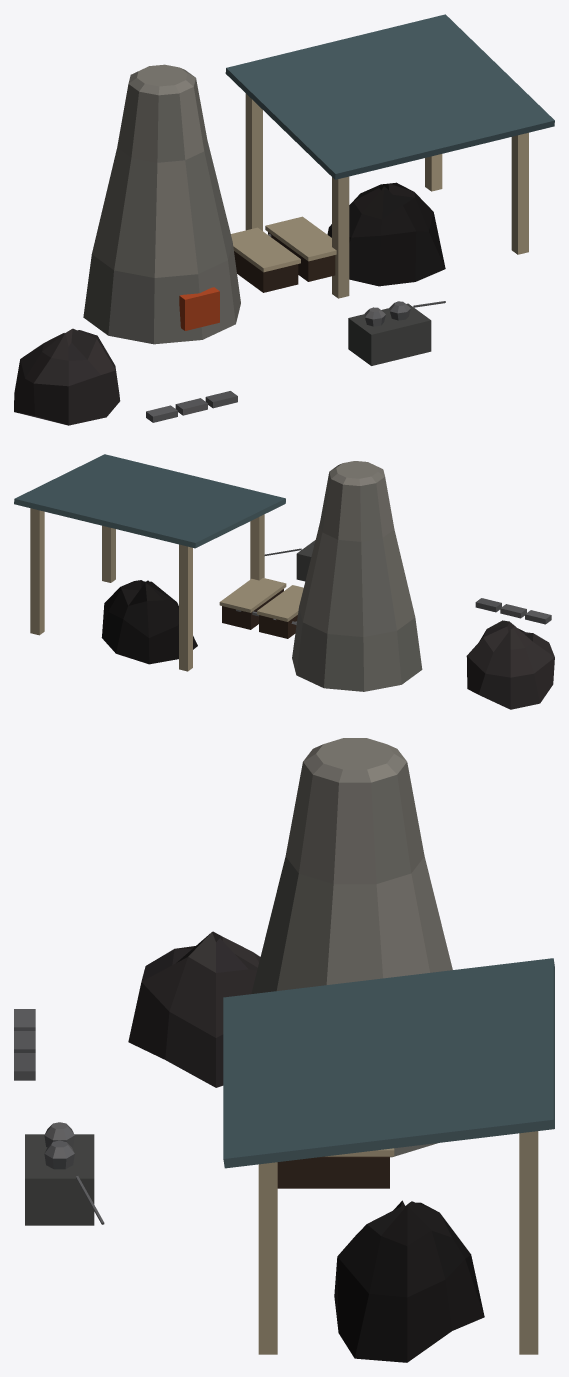
Rendered from walk_veiled_smelter.glb.
The picture shows the model from 3 angles, top to bottom: view 1: azimuth 30°, elevation 25°; view 2: azimuth 150°, elevation 25°; view 3: azimuth 270°, elevation 25°; orthographic projection. The views are drawn at different scales.
Parts seen in each view (by area): view 1: walk_veiled_smelter, walk_veiled_smelter_roof; view 2: walk_veiled_smelter, walk_veiled_smelter_roof; view 3: walk_veiled_smelter, walk_veiled_smelter_roof.
Boxes of the visible parts, bbox=[...] form: walk_veiled_smelter: bbox=[14, 64, 528, 425]; walk_veiled_smelter_roof: bbox=[225, 14, 554, 179]; walk_veiled_smelter: bbox=[30, 461, 554, 709]; walk_veiled_smelter_roof: bbox=[14, 454, 285, 548]; walk_veiled_smelter: bbox=[14, 738, 538, 1362]; walk_veiled_smelter_roof: bbox=[223, 958, 554, 1168].
Size of what is drawn, in the model's own units: 10.71 by 5.07 by 6.23.
Materials: 2 (2 with a texture image).
